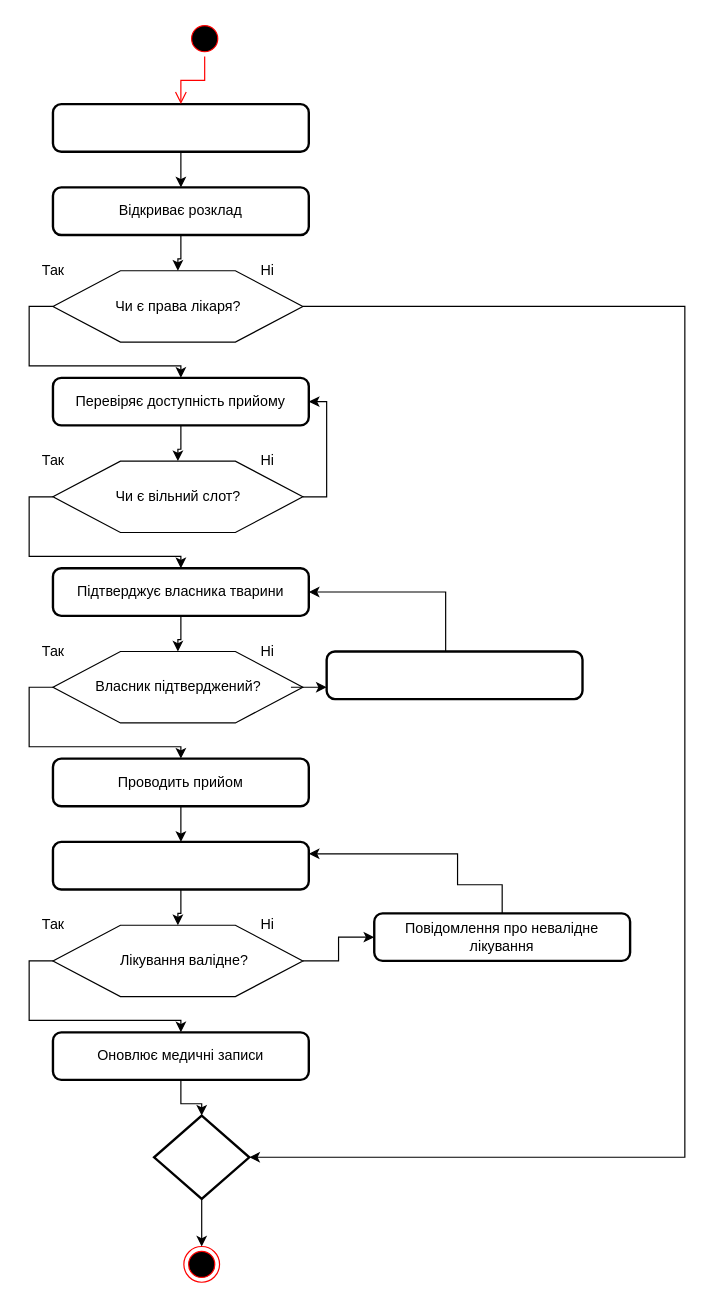
The diagram is 715 pixels wide and 1303 high, and some of its shapes have lost their labels. The centre of each missing label's shape, as x and y in pixels:
"Лікар входить у систему" goes at pixel 180 127.
"Повідомлення 'Власник не підтверджений'" goes at pixel 454 675.
"Призначає лікування" goes at pixel 180 865.
